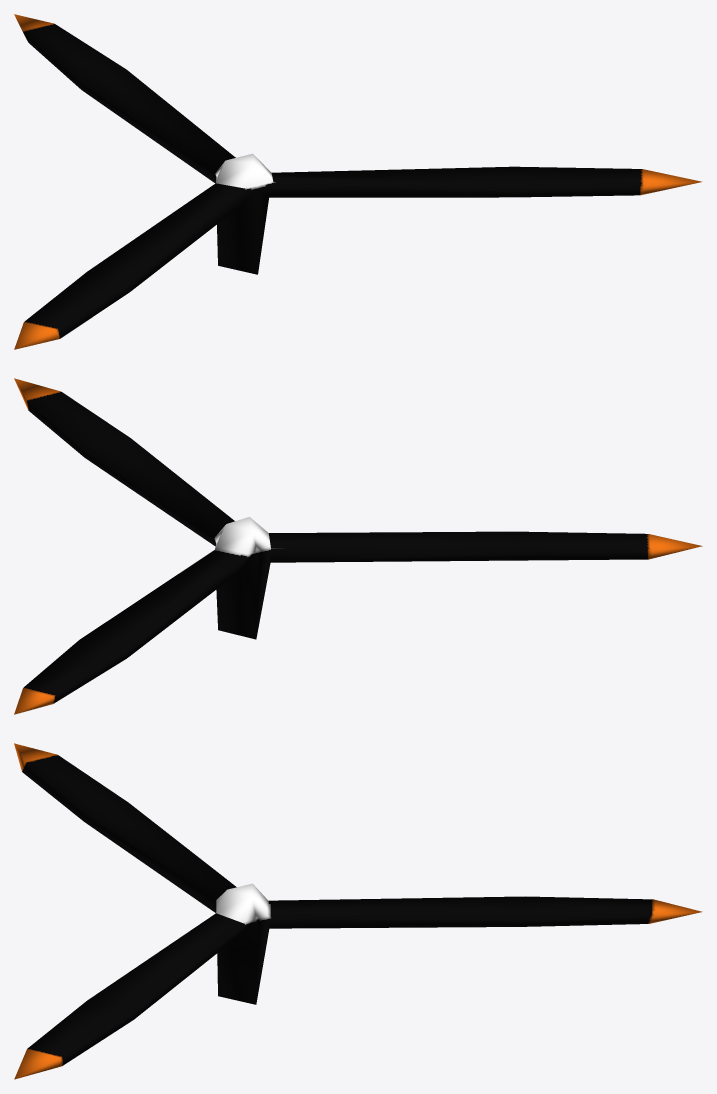
The model's file is low_helice_d_origin_resize.obj.
3 views of the same model, one above another, from view 1: azimuth 30°, elevation 25°; view 2: azimuth 150°, elevation 25°; view 3: azimuth 270°, elevation 25° (orthographic).
Visible parts, largest first — view 1: low_helice_d; view 2: low_helice_d; view 3: low_helice_d.
Part boxes in pixels (left/top/right/bottom): low_helice_d: left=14, top=14, right=702, bottom=349; low_helice_d: left=14, top=378, right=702, bottom=714; low_helice_d: left=14, top=743, right=702, bottom=1079.
Bounding box in the file's own units: 8.4 × 1.25 × 7.27.
Materials: 1 (1 with a texture image).
